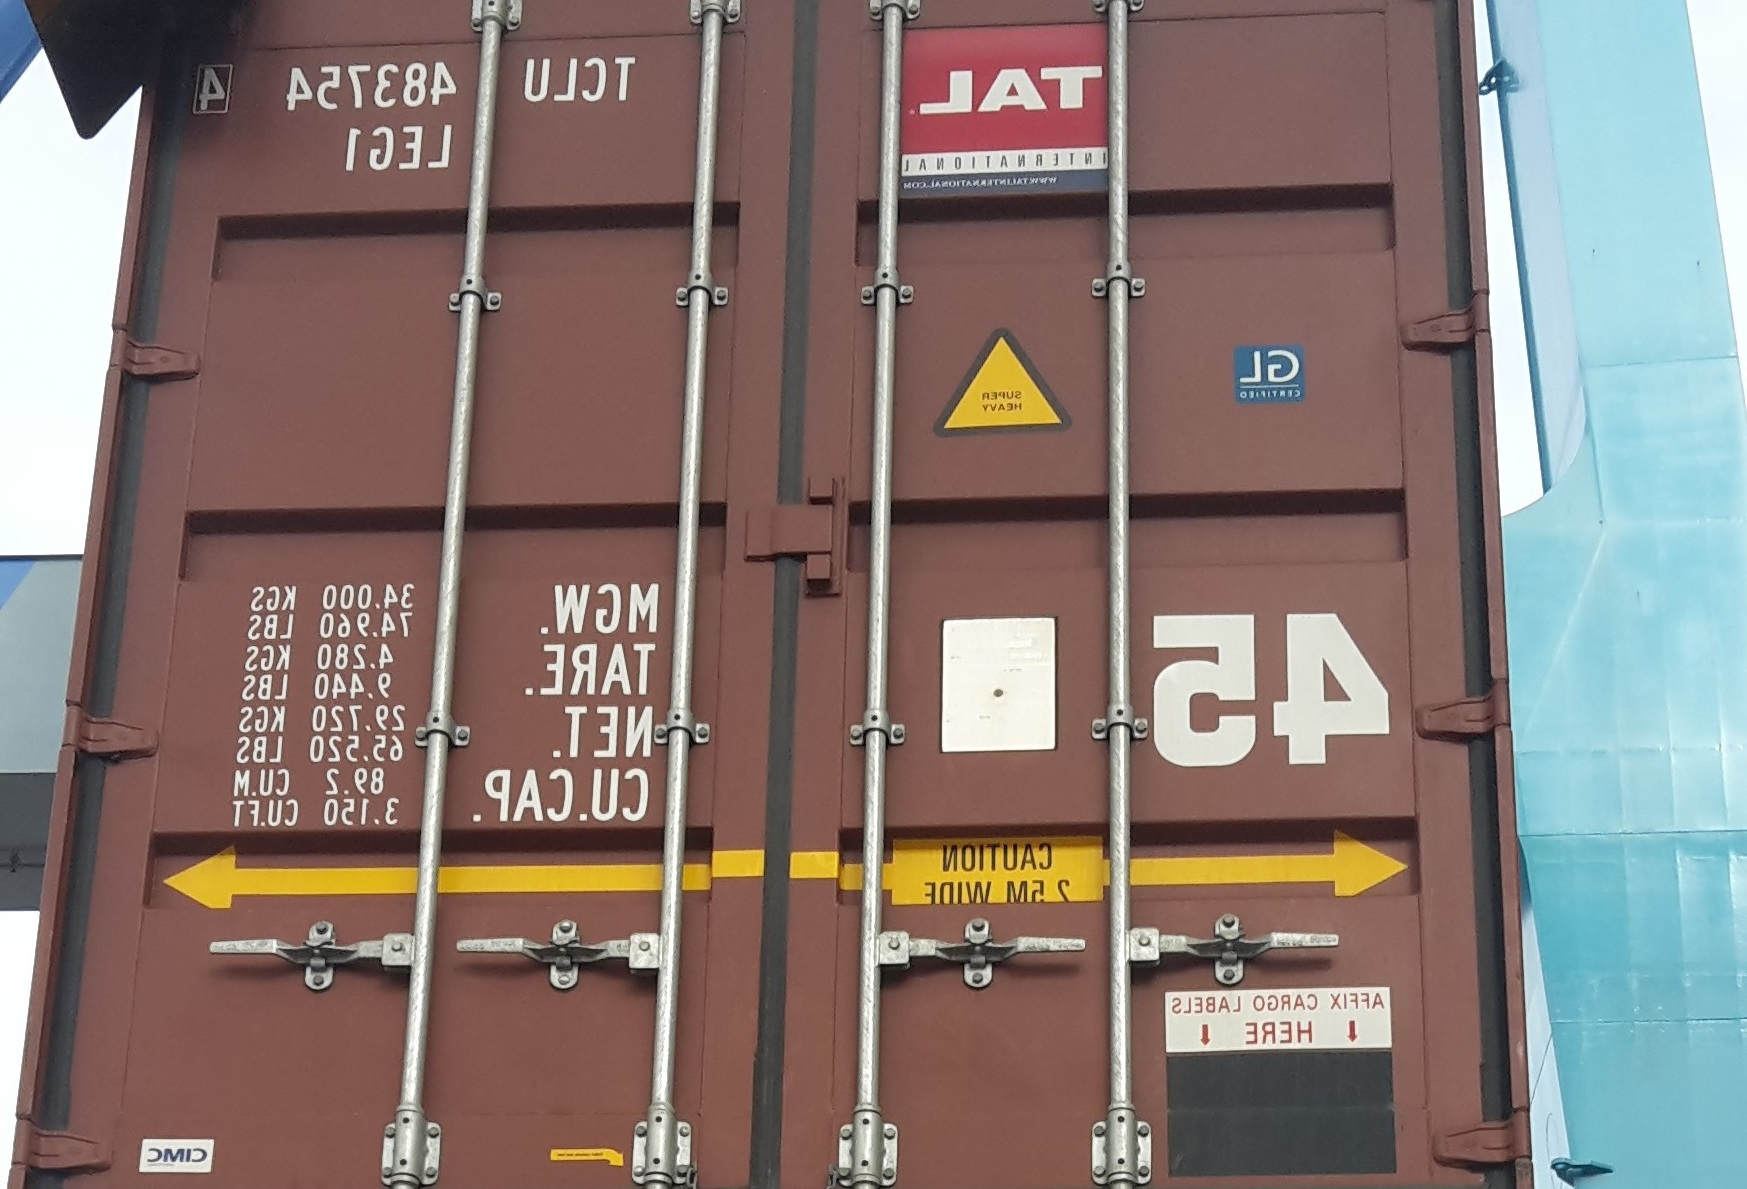container_door: (13, 1, 1500, 1178)
